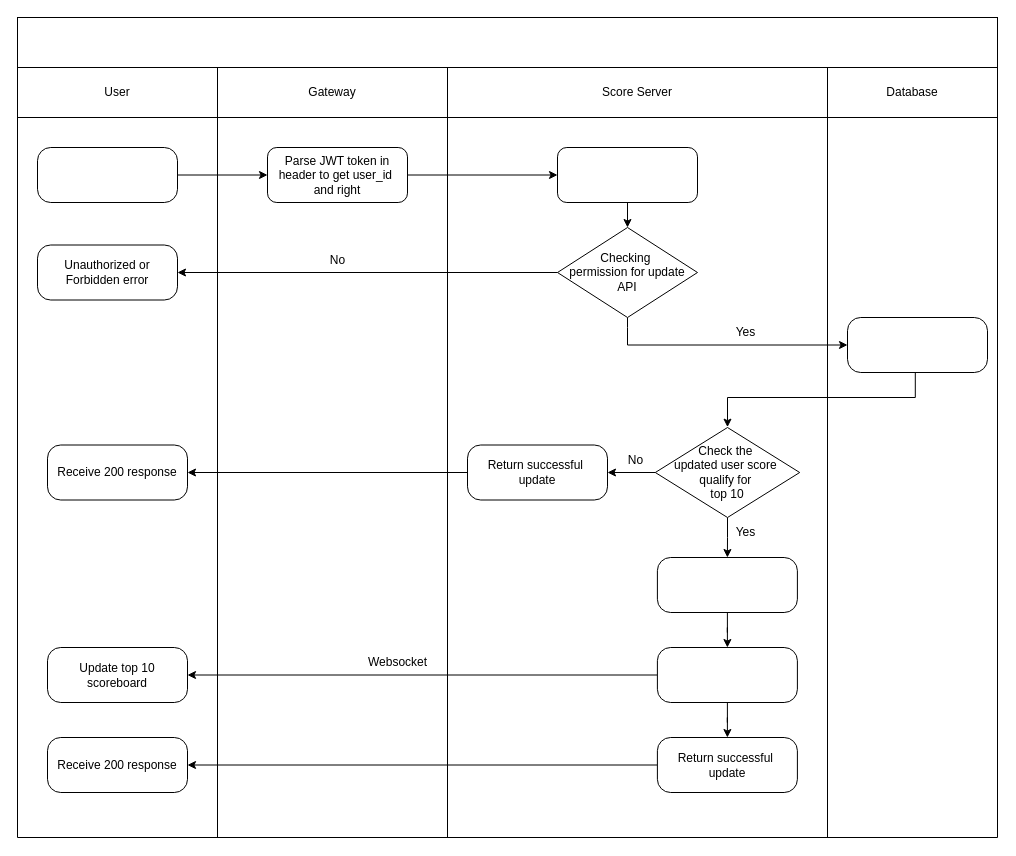
The diagram is 1016 pixels wide and 856 high, and some of its shapes have lost their labels. The centre of each missing label's shape, as x and y in pixels:
"Do an action" goes at [107,174].
"Get user data from header (parse by gateway)" goes at [627,174].
"Send updated members in top 10 scores to all active users" goes at [726,674].
"Update cached (Redis) database" goes at [726,584].
"UPDATE USER SCORE WORK FLOW" goes at [507,42].
"Update user_score table" goes at [917,344].
